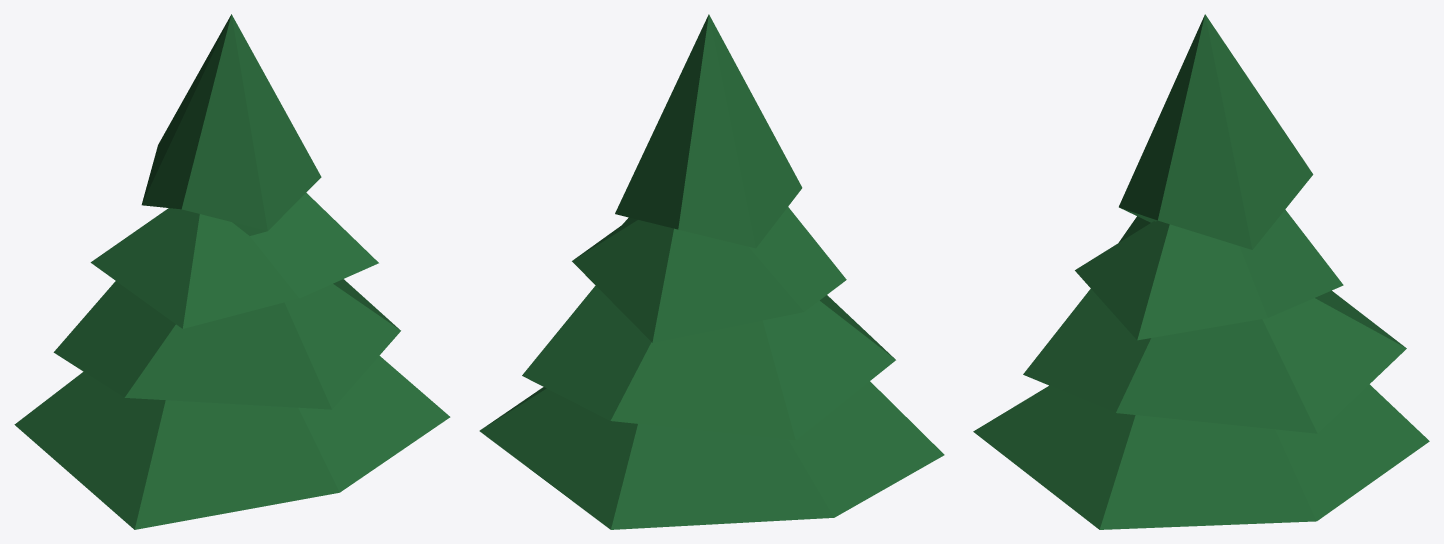
The picture shows the model from 3 angles, left to right: view 1: azimuth 30°, elevation 25°; view 2: azimuth 150°, elevation 25°; view 3: azimuth 270°, elevation 25°; orthographic projection. The views are drawn at different scales.
Visible parts, largest first — view 1: Pinetree_05_0; view 2: Pinetree_05_0; view 3: Pinetree_05_0.
Boxes of the visible parts, <box> form: Pinetree_05_0: <box>14,14,450,529</box>; Pinetree_05_0: <box>479,14,944,529</box>; Pinetree_05_0: <box>973,14,1429,529</box>.
Size of the model in its own units: 4.33 by 5.66 by 4.82.
